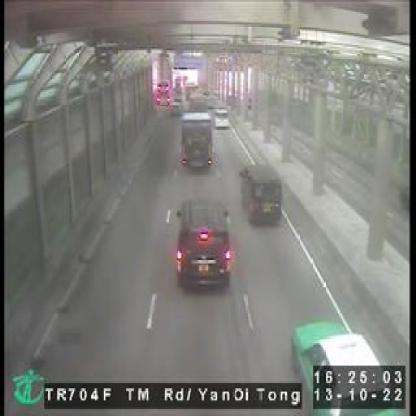Car: (289, 318, 405, 416), (172, 200, 235, 294), (240, 163, 284, 227), (214, 105, 231, 126)
Truck: (182, 106, 212, 172)
